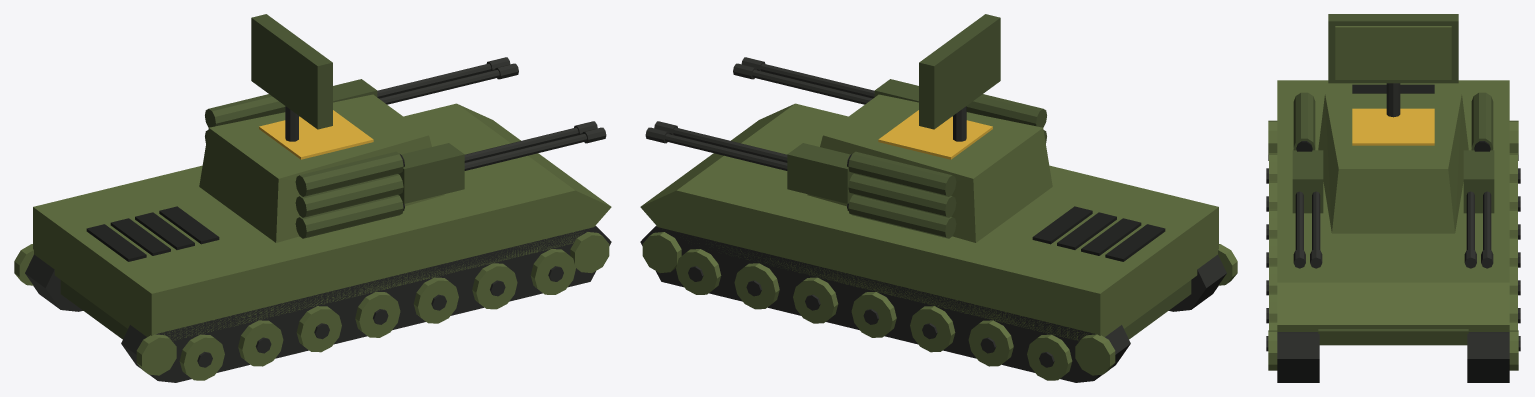
3 renders of one model, left to right at view 1: azimuth 30°, elevation 25°; view 2: azimuth 150°, elevation 25°; view 3: azimuth 270°, elevation 25°, orthographic. The views are drawn at different scales.
Visible parts, largest first — view 1: Hull, Turret, Radar, TeamColor; view 2: Hull, Turret, Radar, TeamColor; view 3: Hull, Turret, Radar, TeamColor.
Boxes of the visible parts, bbox=[...] form: Hull: bbox=[14, 103, 611, 382]; Turret: bbox=[199, 57, 606, 242]; Radar: bbox=[251, 14, 332, 129]; TeamColor: bbox=[259, 110, 373, 159]; Hull: bbox=[640, 103, 1237, 382]; Turret: bbox=[645, 57, 1052, 242]; Radar: bbox=[919, 14, 1000, 129]; TeamColor: bbox=[878, 110, 992, 159]; Hull: bbox=[1266, 80, 1520, 382]; Turret: bbox=[1292, 83, 1494, 268]; Radar: bbox=[1328, 14, 1458, 83]; TeamColor: bbox=[1352, 108, 1434, 145].
Size of the model in its own units: 7.89 by 4.06 by 3.72.
